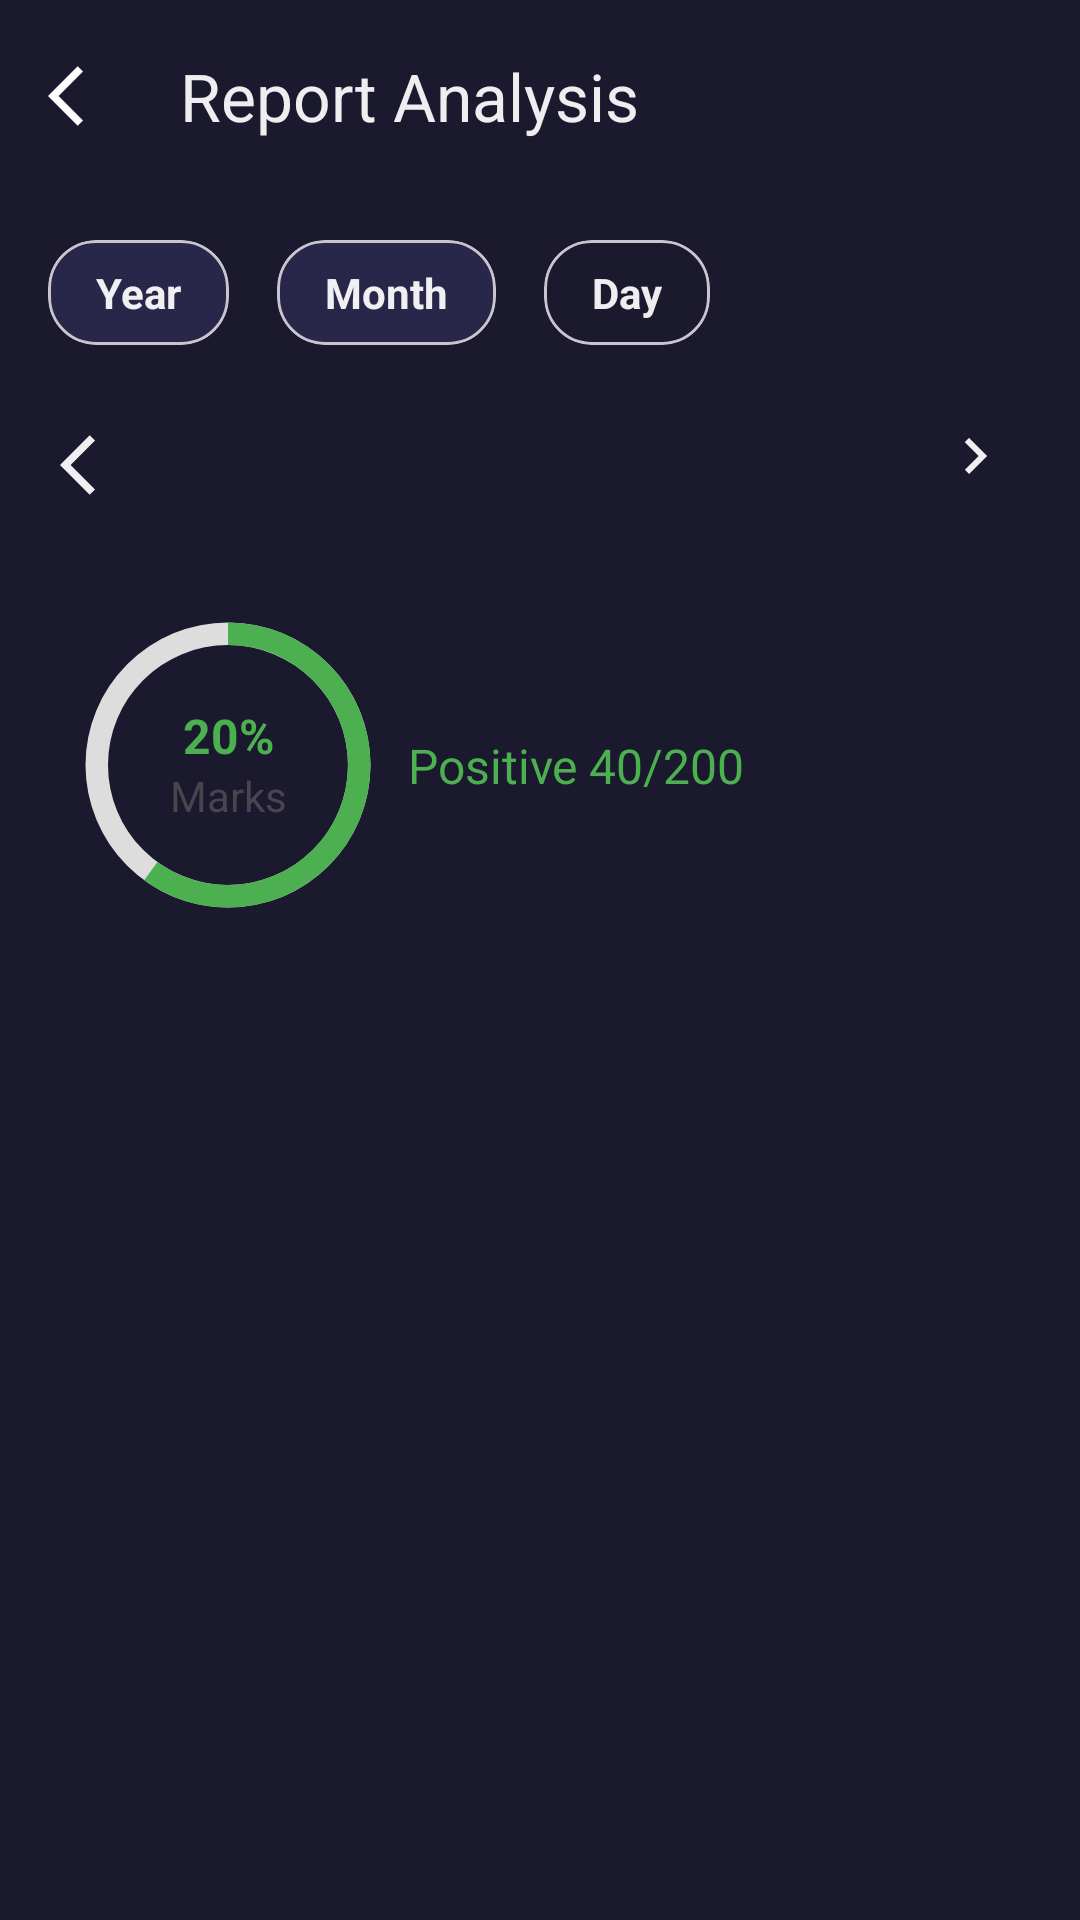

Icon bounding boxes for this 1080x1920 phone screenshot, format (x1, y1, x2, y2):
arrow front: (965, 438, 987, 474)
